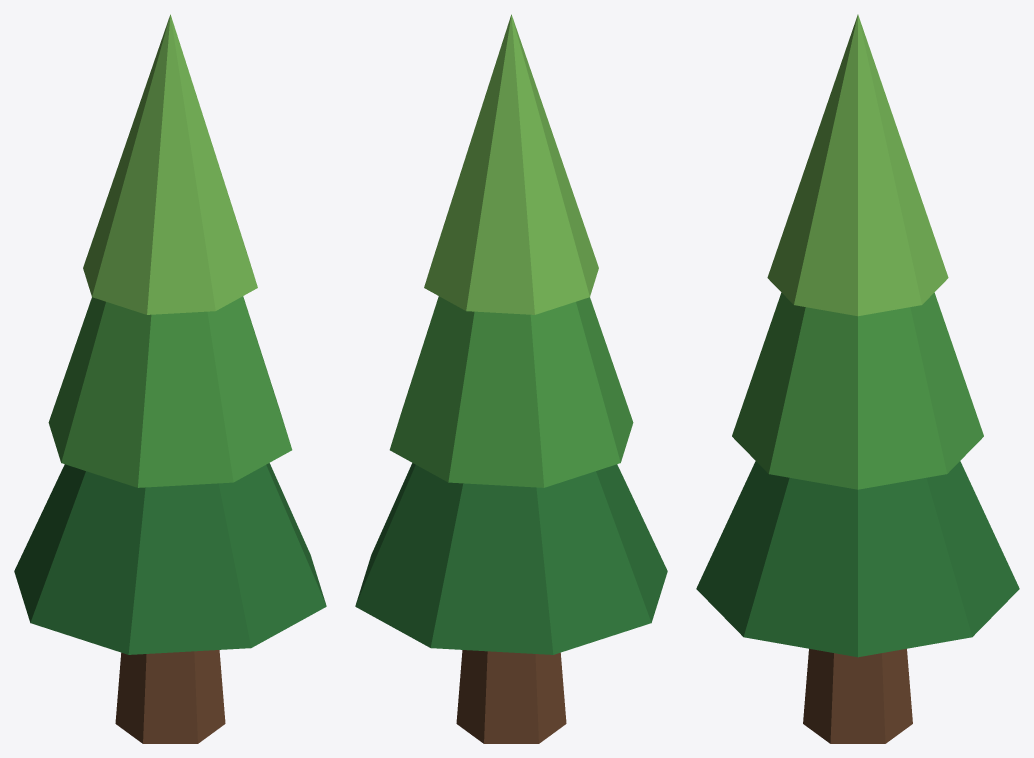
The model's file is wood_tree_pine.fbx.
The picture shows the model from 3 angles, left to right: view 1: azimuth 30°, elevation 25°; view 2: azimuth 150°, elevation 25°; view 3: azimuth 270°, elevation 25°; orthographic projection.
Visible parts, largest first — view 1: wood_tree_pine__leaf_dark, wood_tree_pine__leaf, wood_tree_pine__leaf_light, wood_tree_pine__bark; view 2: wood_tree_pine__leaf_dark, wood_tree_pine__leaf, wood_tree_pine__leaf_light, wood_tree_pine__bark; view 3: wood_tree_pine__leaf_dark, wood_tree_pine__leaf, wood_tree_pine__leaf_light, wood_tree_pine__bark.
Boxes of the visible parts, x1,y1,x2,y2 form: wood_tree_pine__leaf_dark: (14, 463, 326, 654); wood_tree_pine__leaf: (48, 296, 292, 487); wood_tree_pine__leaf_light: (83, 14, 257, 314); wood_tree_pine__bark: (115, 650, 225, 743); wood_tree_pine__leaf_dark: (355, 463, 667, 654); wood_tree_pine__leaf: (389, 296, 633, 487); wood_tree_pine__leaf_light: (424, 14, 598, 314); wood_tree_pine__bark: (456, 650, 566, 743); wood_tree_pine__leaf_dark: (696, 461, 1019, 657); wood_tree_pine__leaf: (732, 292, 983, 489); wood_tree_pine__leaf_light: (767, 14, 948, 316); wood_tree_pine__bark: (803, 648, 912, 743).
Size of the model in its own units: 500 by 1210 by 500.
